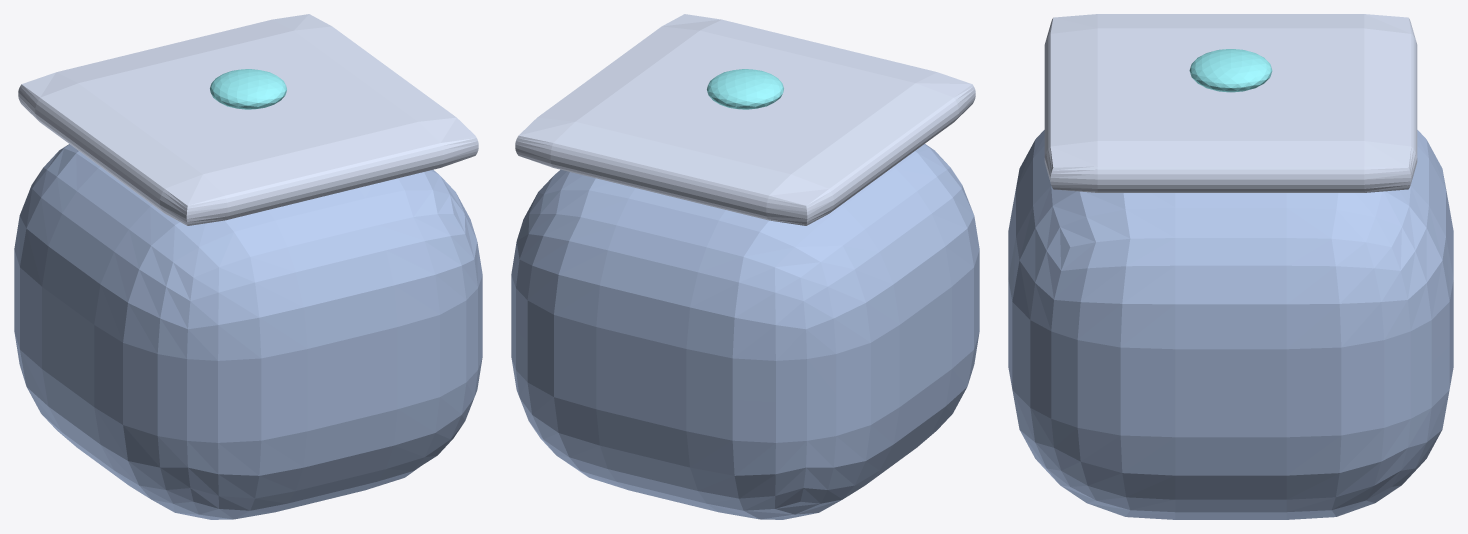
File: frame_corner.glb
3 views of the same model, side by side, from view 1: azimuth 30°, elevation 25°; view 2: azimuth 150°, elevation 25°; view 3: azimuth 270°, elevation 25° (orthographic). The views are drawn at different scales.
Parts seen in each view (by area): view 1: frame_corner:base, frame_corner:top, frame_corner:spark; view 2: frame_corner:base, frame_corner:top, frame_corner:spark; view 3: frame_corner:base, frame_corner:top, frame_corner:spark.
Part boxes in pixels (x1,y1,x2,y2): frame_corner:base: [14, 144, 482, 519]; frame_corner:top: [18, 14, 478, 225]; frame_corner:spark: [210, 69, 286, 109]; frame_corner:base: [511, 144, 979, 519]; frame_corner:top: [515, 14, 975, 225]; frame_corner:spark: [707, 69, 783, 109]; frame_corner:base: [1008, 130, 1453, 519]; frame_corner:top: [1044, 14, 1417, 192]; frame_corner:spark: [1189, 49, 1272, 92].
Size of the model in its own units: 0.258 by 0.2669 by 0.258.
